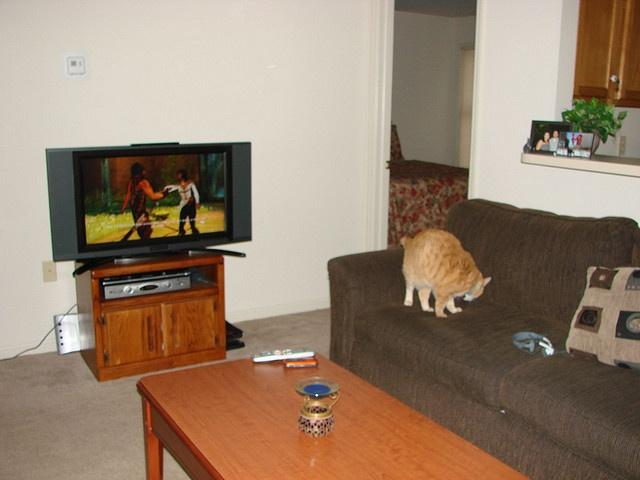AIO PC-Monitor-TV: (44, 141, 253, 277)
Meja: (135, 347, 533, 479)
